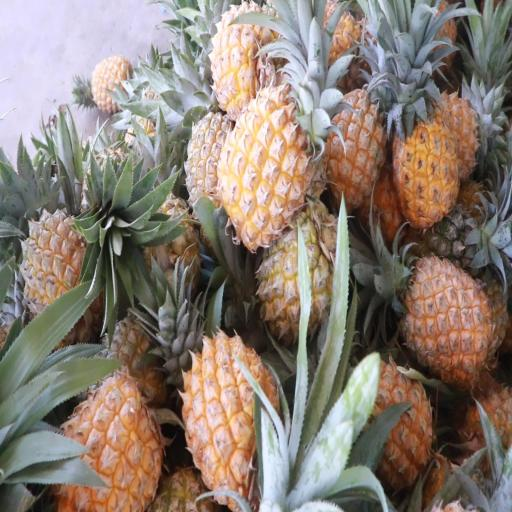------------------------------: (256, 218, 339, 349)
Pineapple - v8 v1: (184, 338, 277, 499), (55, 382, 164, 512), (228, 94, 315, 244), (350, 360, 431, 486), (400, 258, 488, 373), (325, 86, 390, 208), (394, 111, 459, 226), (210, 4, 276, 109)
